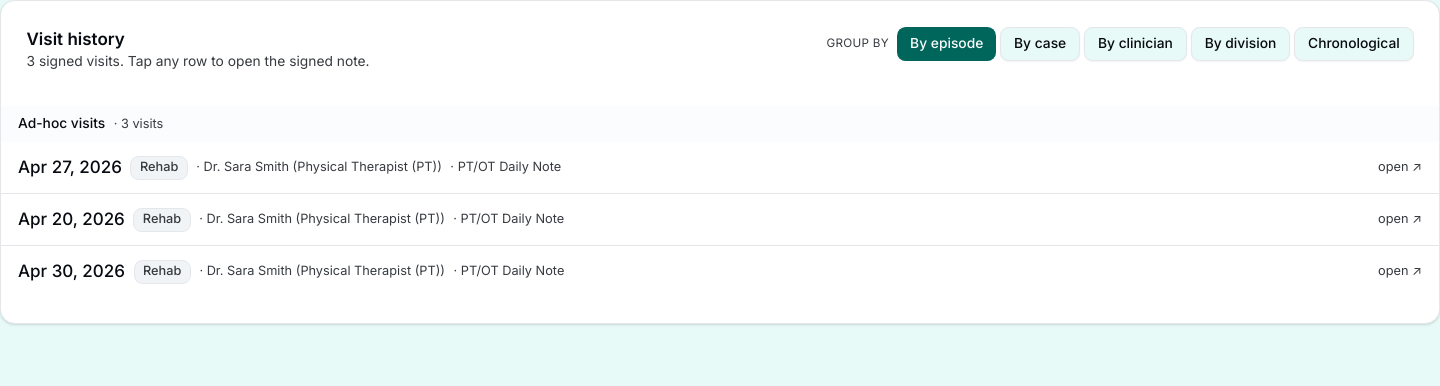
Scenario: VisitHistoryList — By case view › groups visits by caseManagementId when "By case" is selected
This screenshot has width=1440, height=386.
Click the button "By case". click: click(1040, 44)
box: [1000,26,1080,60]
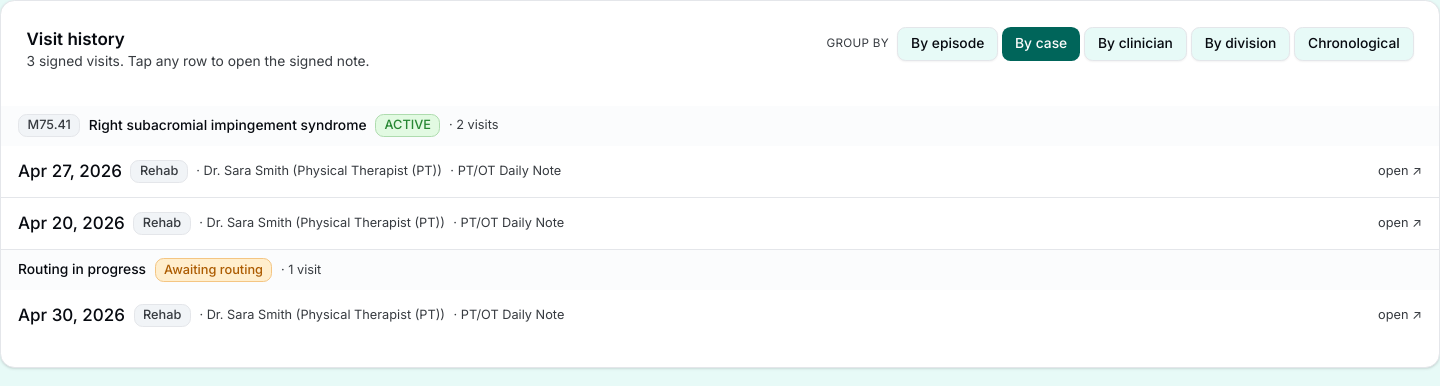
Expected: the text "Right subacromial impingement syndrome" is shown, [89,116,366,136]
Expected: the text "Routing in progress" is shown, [18,260,146,280]
Expected: the text "· 2 visits" is shown, [449,117,498,134]
